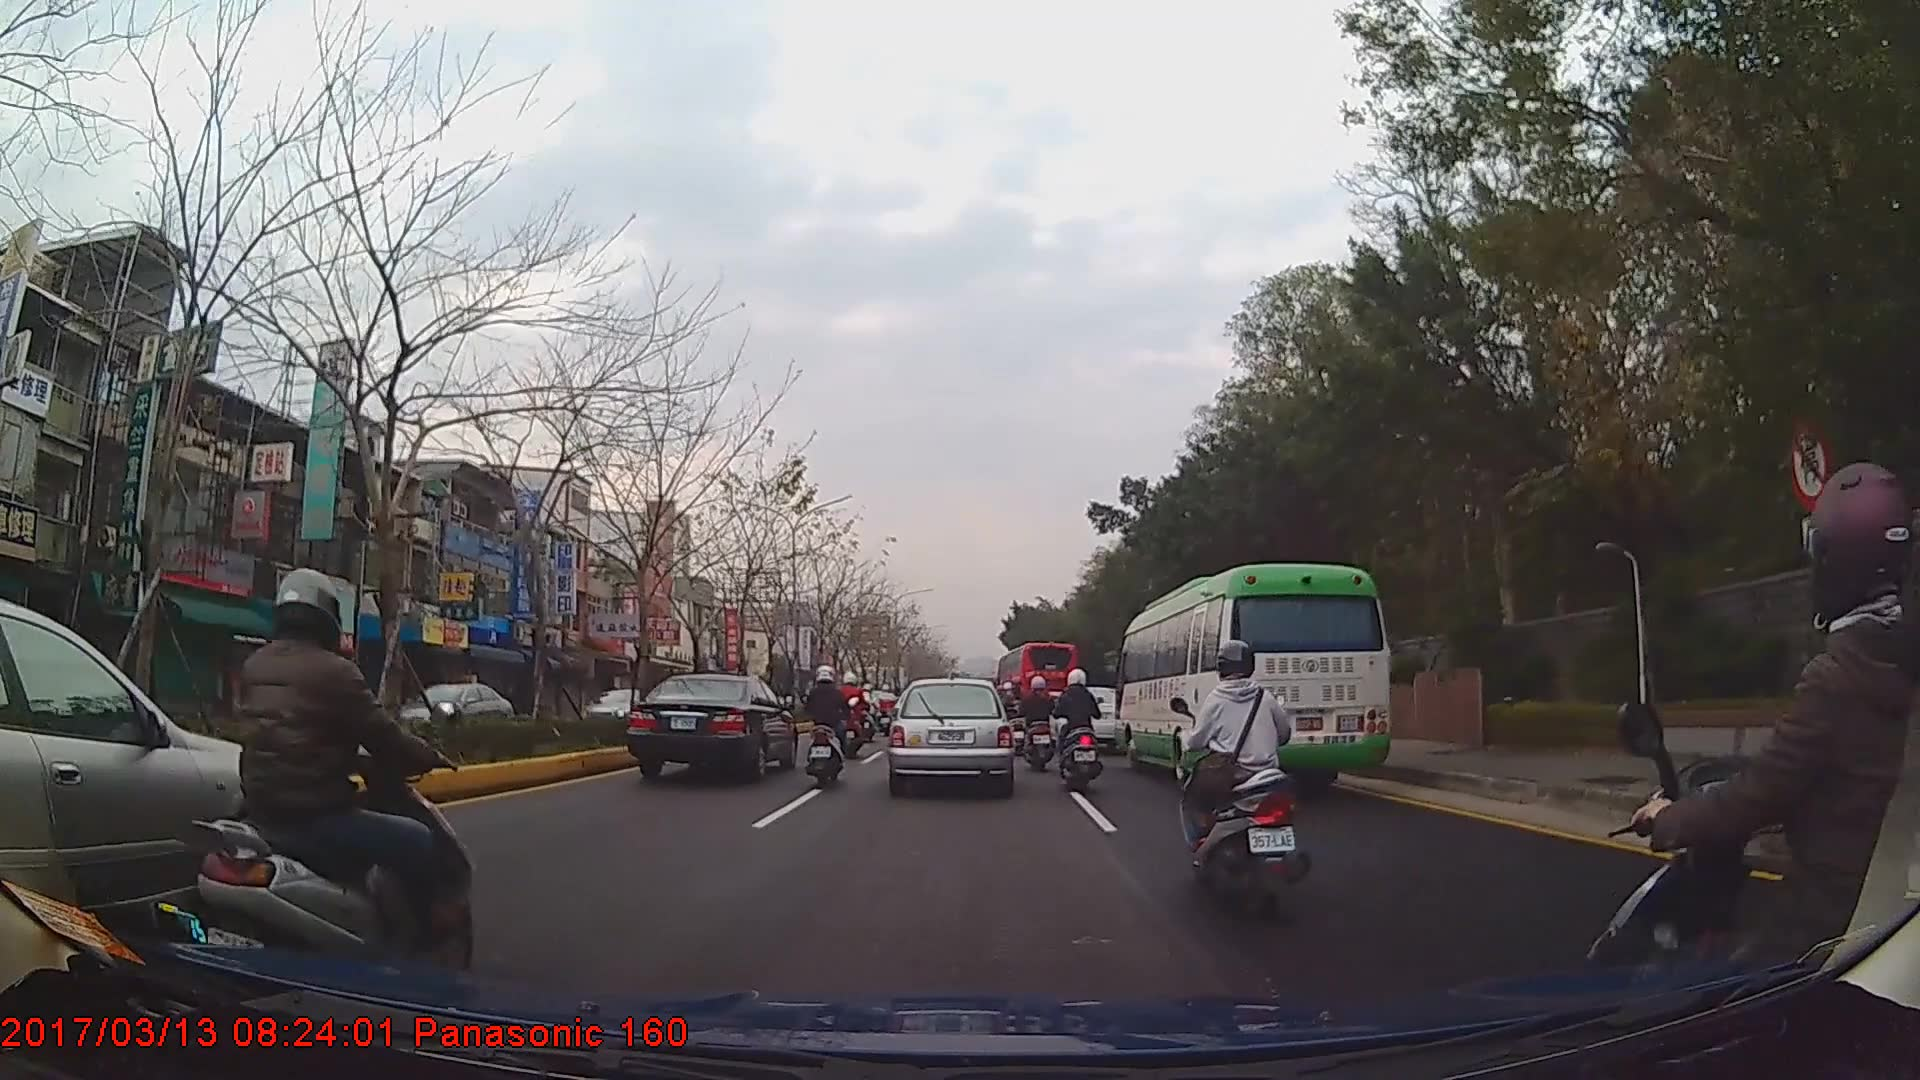rider: (1589, 464, 1920, 1080), (190, 567, 472, 1007), (1175, 642, 1309, 918), (805, 667, 854, 791), (1055, 671, 1105, 794), (1021, 675, 1059, 774), (837, 672, 871, 757), (1005, 676, 1029, 756), (857, 688, 883, 744), (877, 684, 899, 726)
vehicle: (0, 596, 330, 972), (1114, 564, 1391, 796), (621, 672, 799, 783), (887, 676, 1013, 795), (389, 681, 511, 752), (997, 640, 1080, 735)
